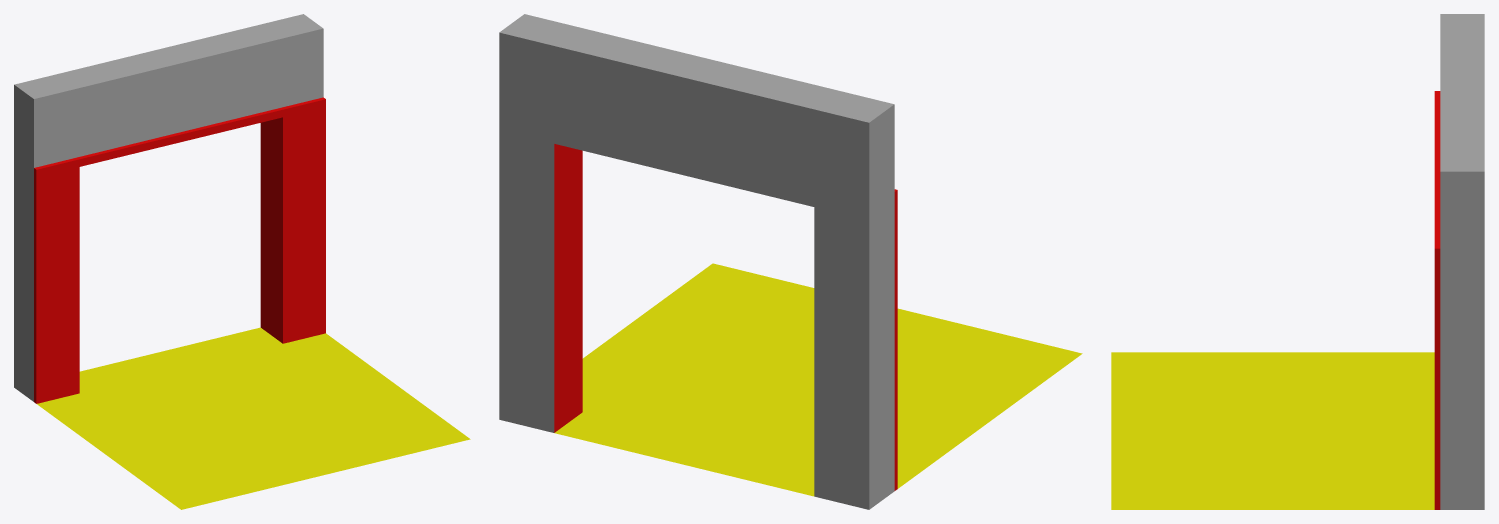
The model's file is widedoor.fbx.
3 renders of one model, left to right at view 1: azimuth 30°, elevation 25°; view 2: azimuth 150°, elevation 25°; view 3: azimuth 270°, elevation 25°, orthographic. The views are drawn at different scales.
Parts seen in each view (by area): view 1: widedoor_MESH; view 2: widedoor_MESH; view 3: widedoor_MESH.
Part boxes in pixels (x1,y1,x2,y2): widedoor_MESH: [14, 14, 470, 509]; widedoor_MESH: [499, 14, 1082, 509]; widedoor_MESH: [1111, 14, 1484, 509].
Bounding box in the file's own units: 200 × 200 × 200.
